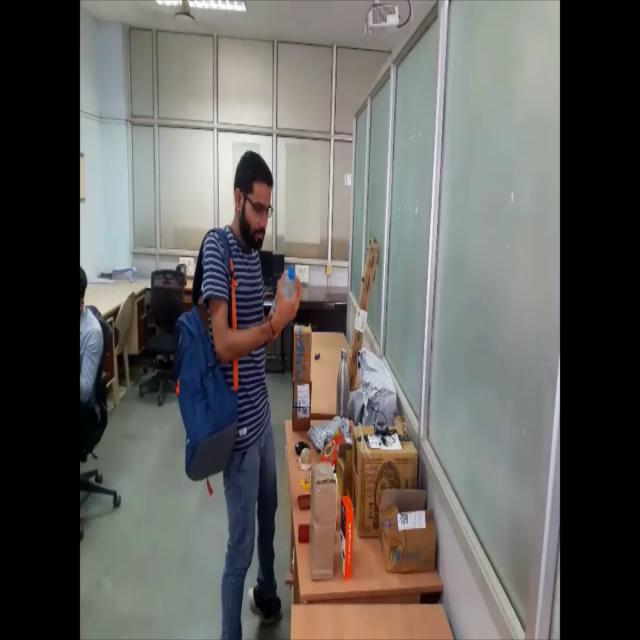normal: (170, 149, 308, 640)
